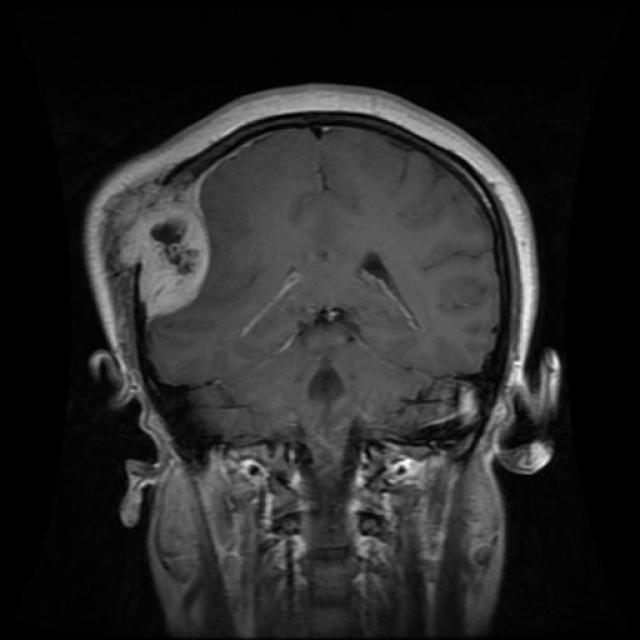meningioma: (140, 210, 210, 315)
